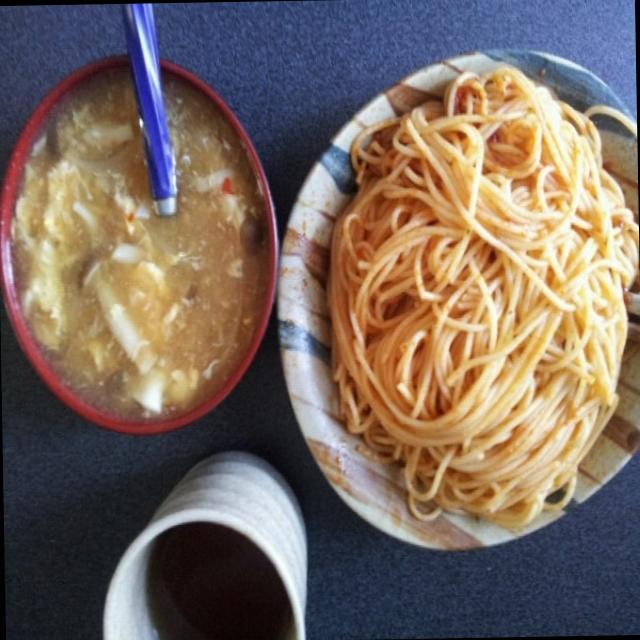Pasta: (323, 78, 640, 536)
